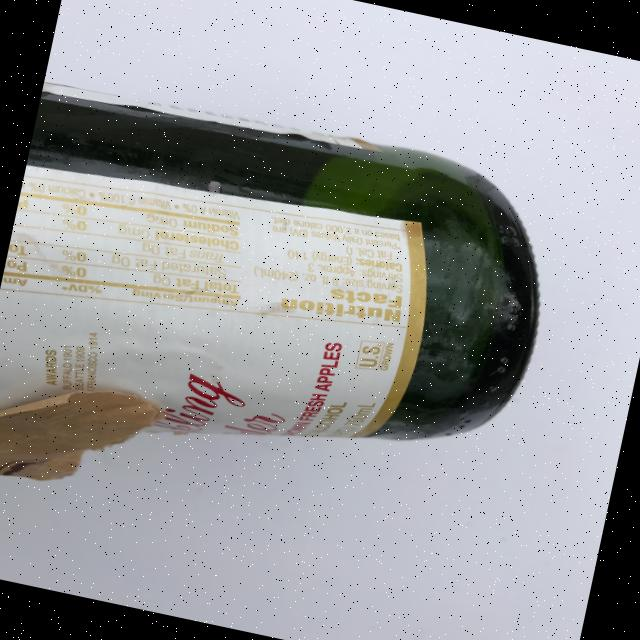glass: (0, 70, 570, 578)
